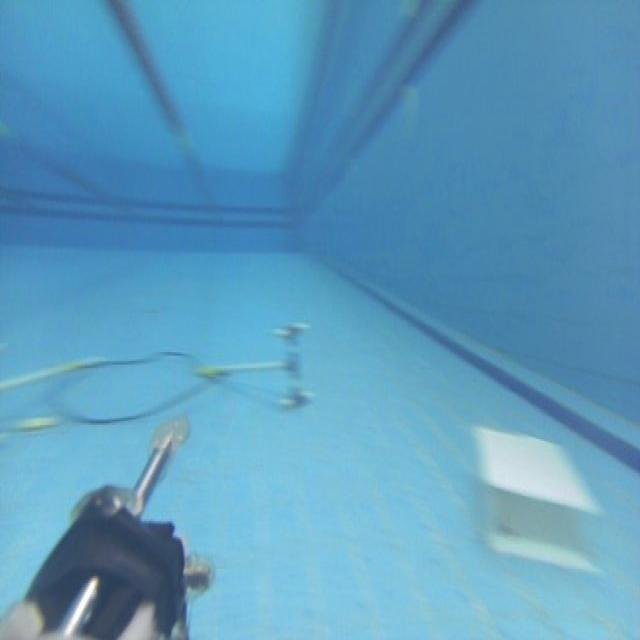Cuboid: (470, 418, 605, 574)
